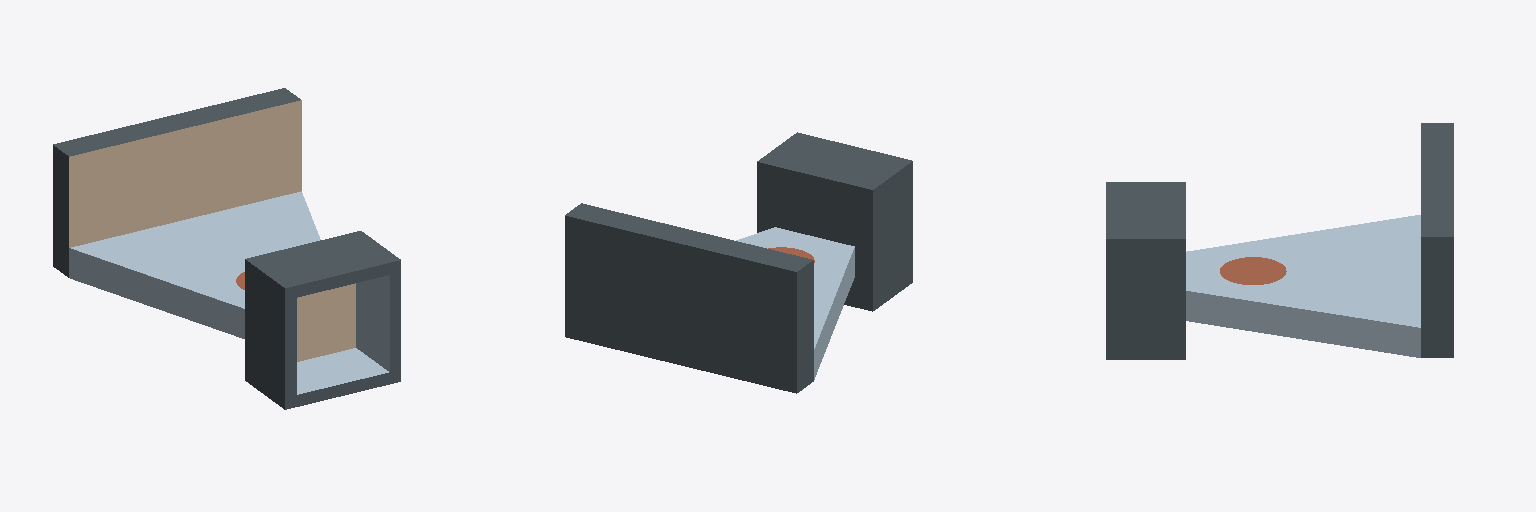
The model's file is link_eval_weight_balance_body.obj.
3 views of the same model, side by side, from view 1: azimuth 30°, elevation 25°; view 2: azimuth 150°, elevation 25°; view 3: azimuth 270°, elevation 25° (orthographic).
Parts seen in each view (by area): view 1: Mesh1 Model; view 2: Mesh1 Model; view 3: Mesh1 Model.
Part boxes in pixels (bbox=[...]): Mesh1 Model: bbox=[53, 88, 400, 409]; Mesh1 Model: bbox=[565, 132, 912, 393]; Mesh1 Model: bbox=[1106, 123, 1453, 359].
Bounding box in the file's own units: 2 × 1.25 × 2.6.